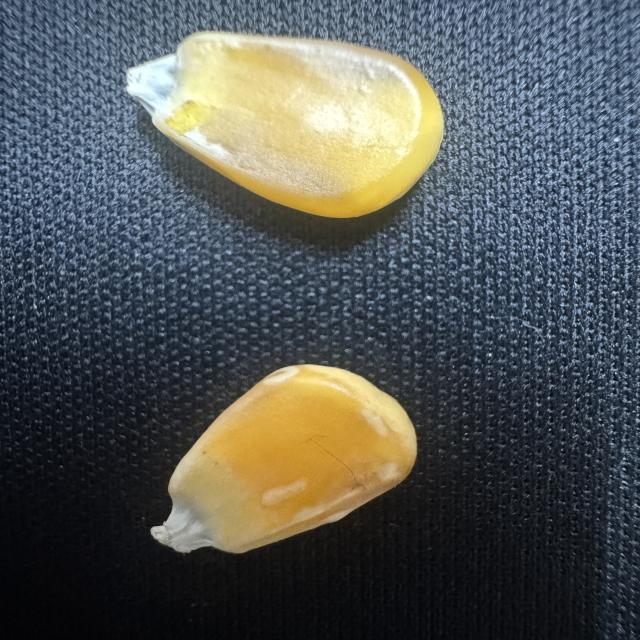Good-Seed: (108, 28, 467, 226), (132, 358, 421, 558)
